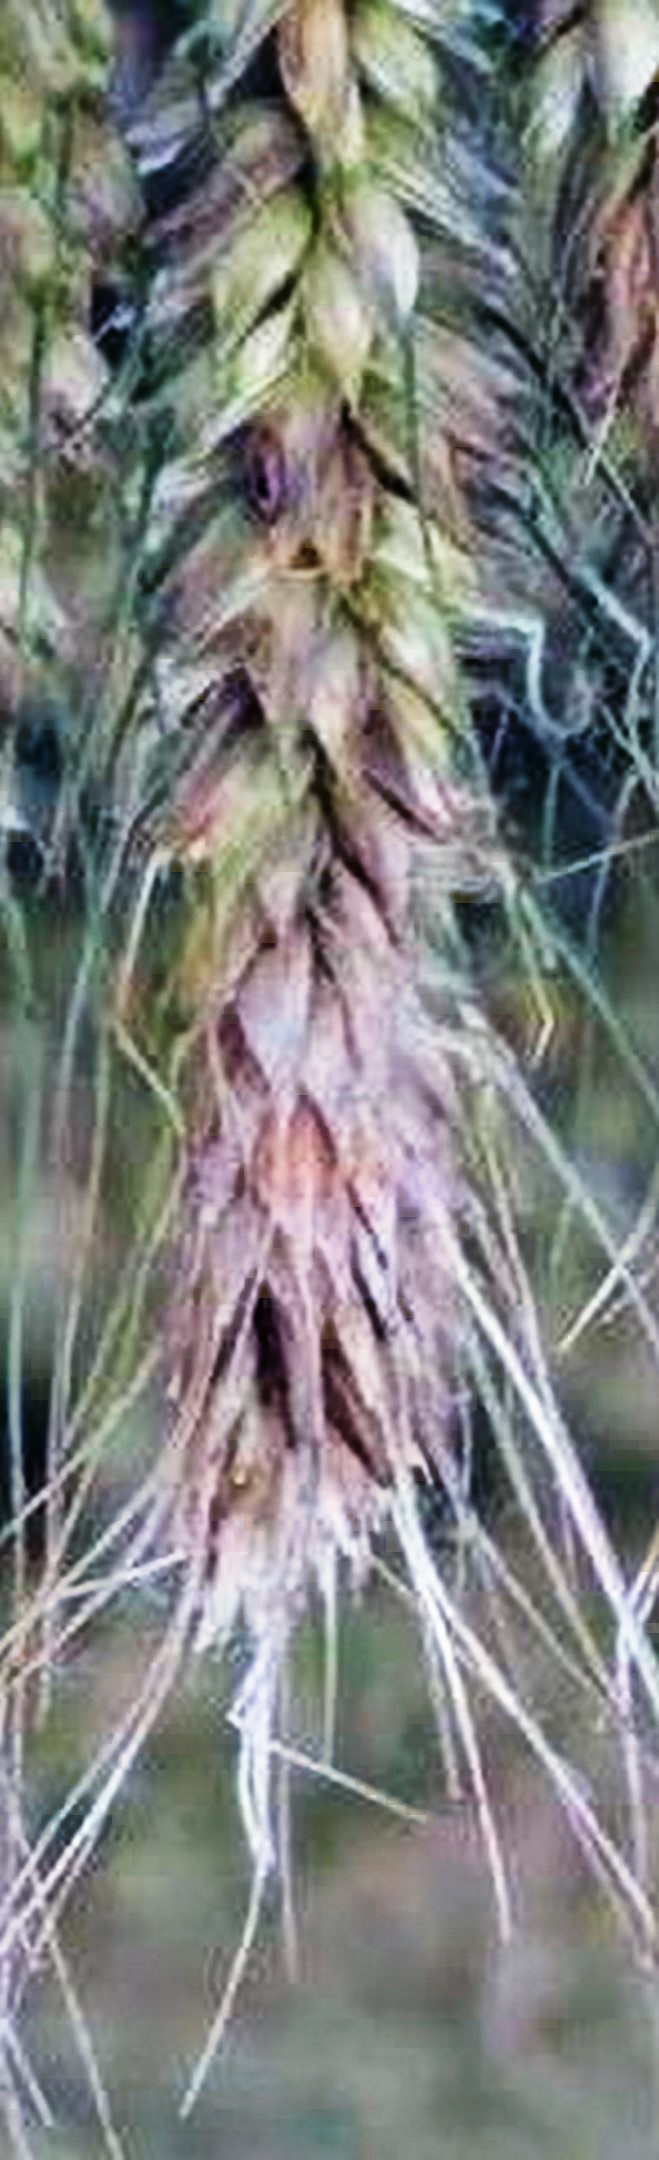Wheat scab: (109, 1, 509, 1641)
